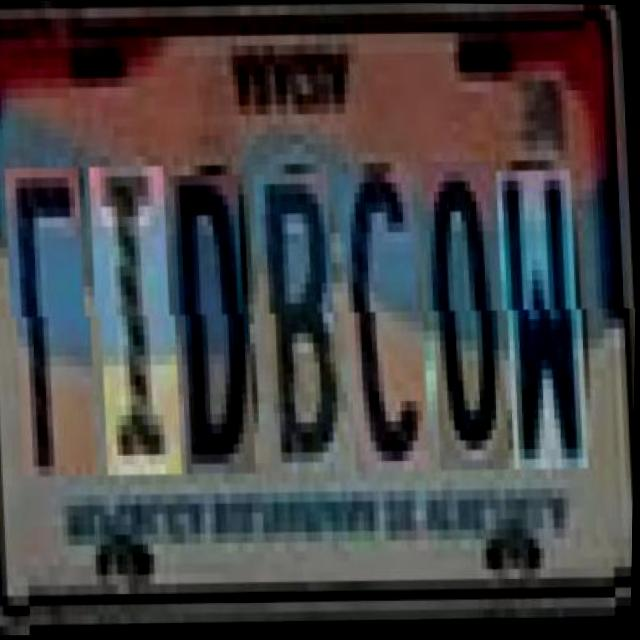b: (262, 175, 353, 474)
c: (346, 174, 437, 473)
d: (177, 175, 262, 476)
i: (97, 165, 190, 476)
l: (12, 166, 105, 477)
m: (505, 171, 596, 472)
o: (429, 162, 517, 473)
